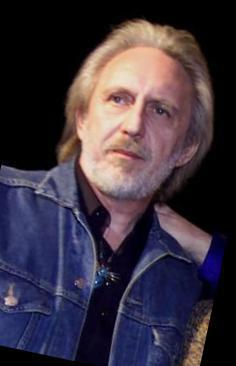Drunk: (91, 43, 181, 198)
